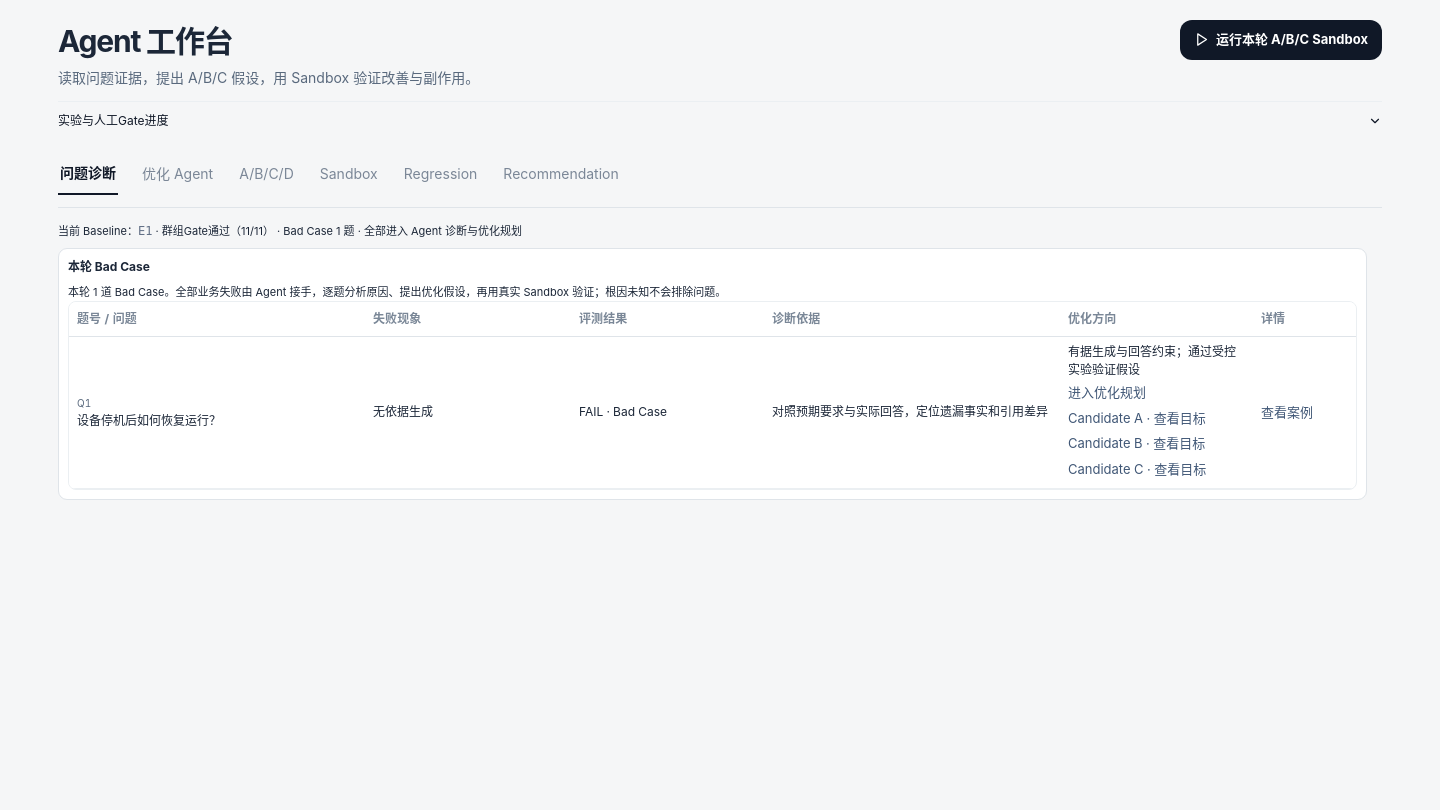
restores stages and complete generated plans without inventing evaluated results
The image size is (1440, 810).
Click the button "优化 Agent" at (178, 174), box [140,152,215,195]
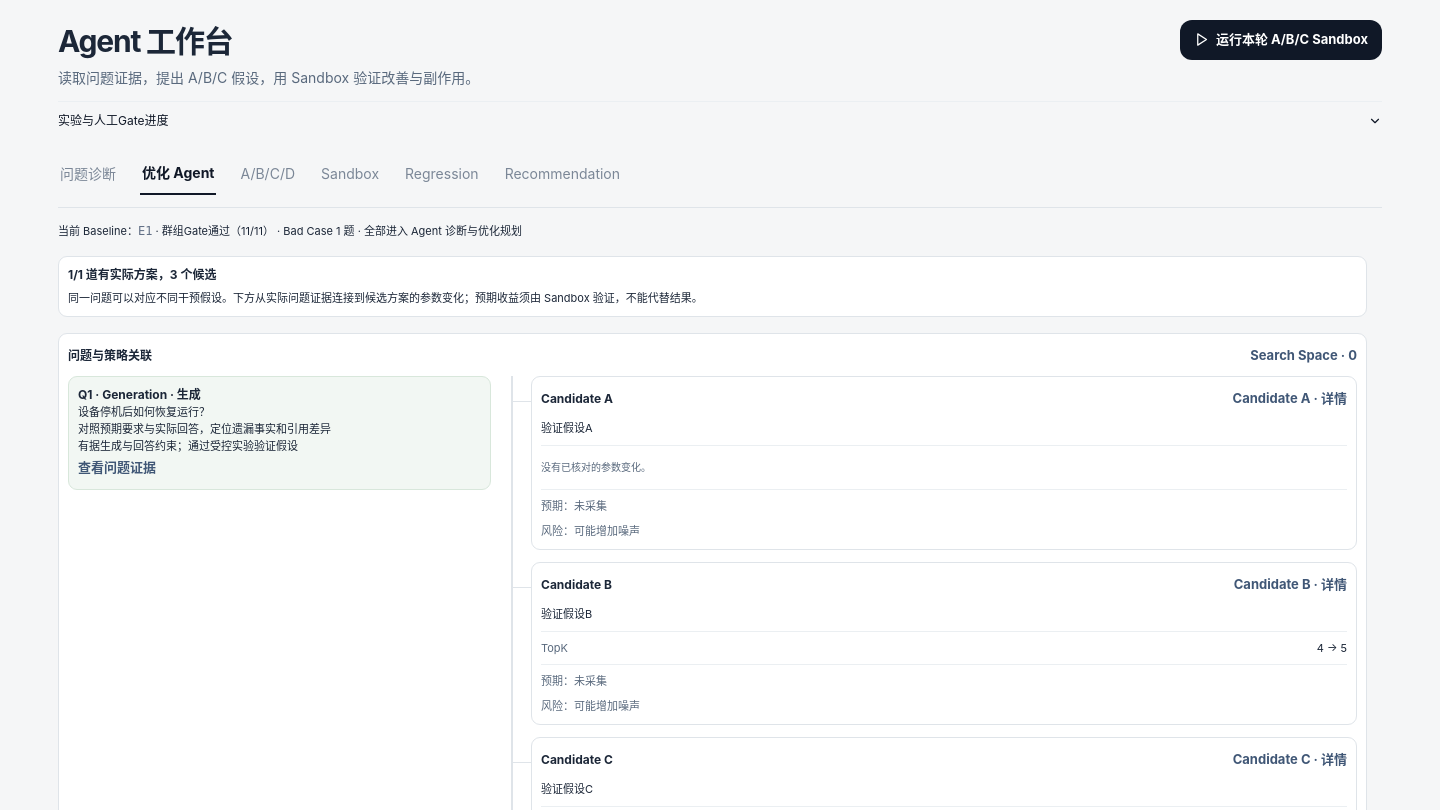
Expected: the text "问题与策略关联" is shown, [68,347,152,365]
Click the button "A/B/C/D" at (268, 174), box [238,152,297,195]
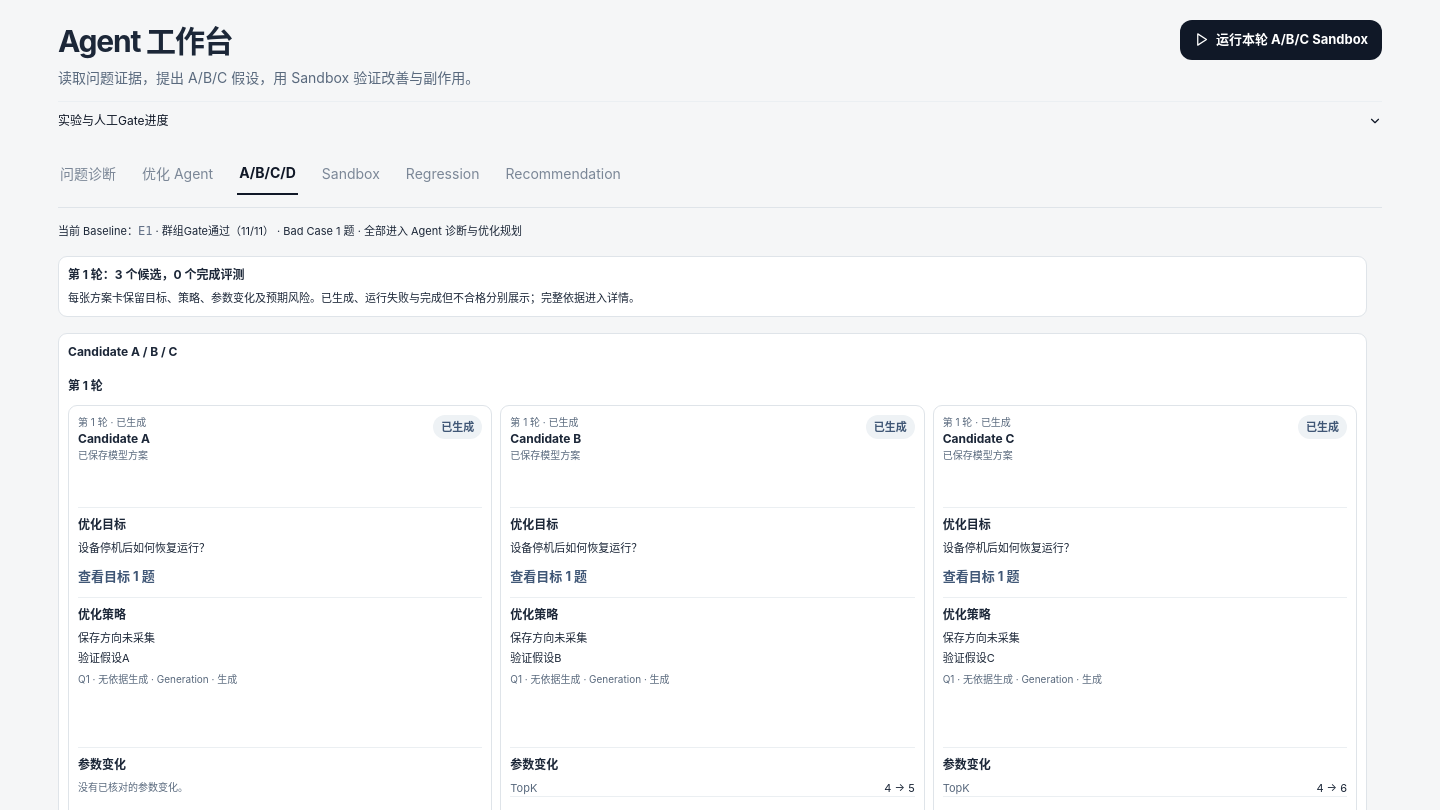
Click the 1st button "查看目标 1 题" at (116, 577), box [78,564,155,590]
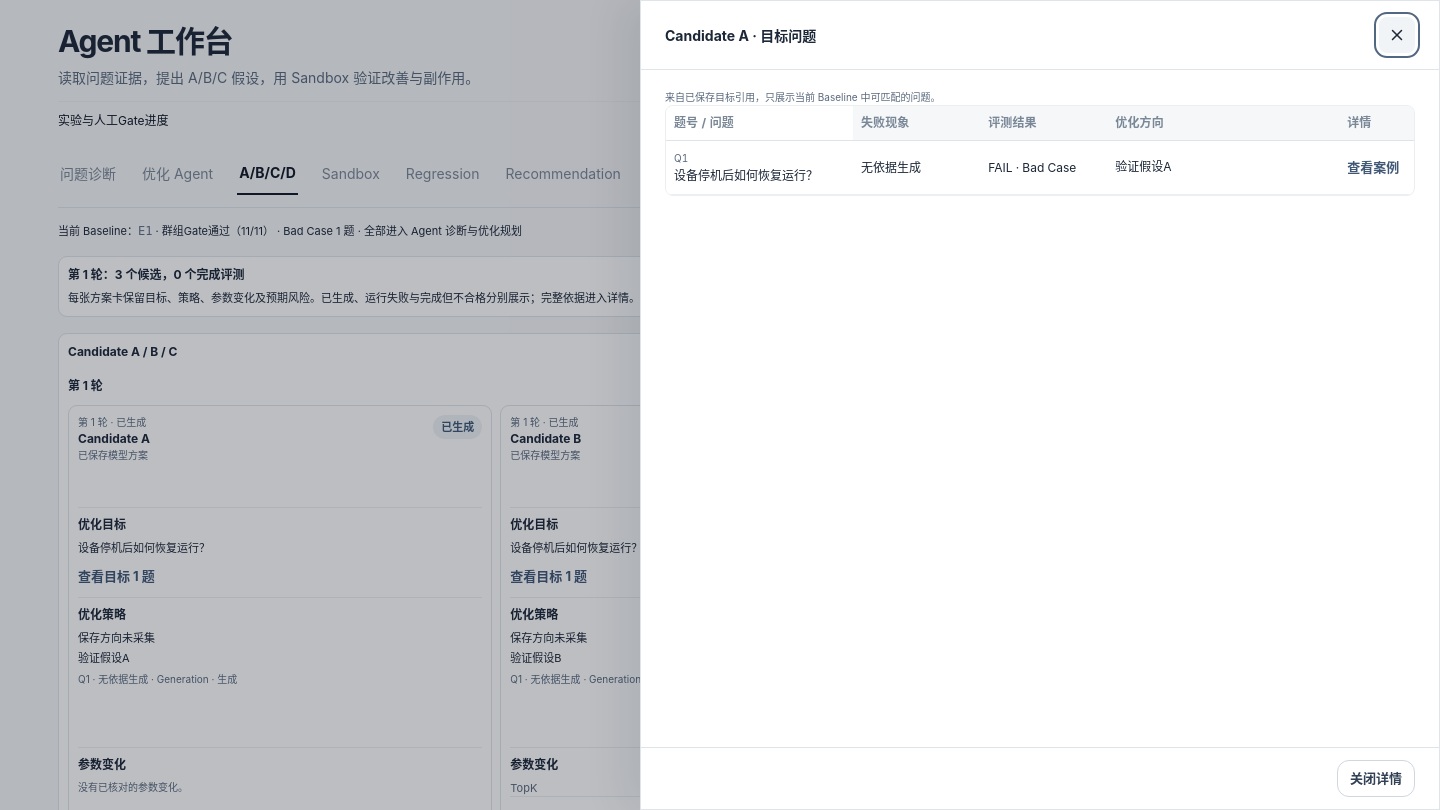
Expected: the dialog shows "设备停机后如何恢复运行？", [674,168,818,183]
